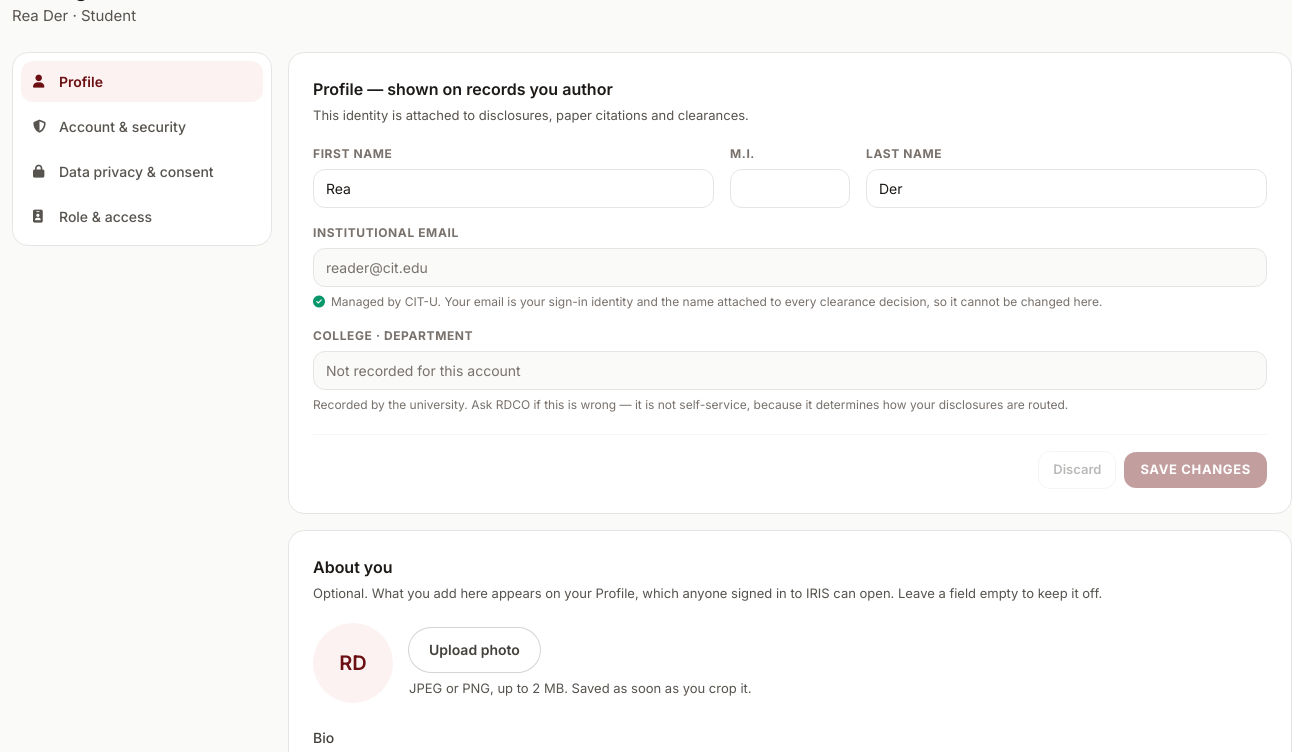
it: changing your password › signs out everywhere, this tab included, and says why on the sign-in screen
Click the button "Account & security": point(142, 126) 21,106 -> 263,147
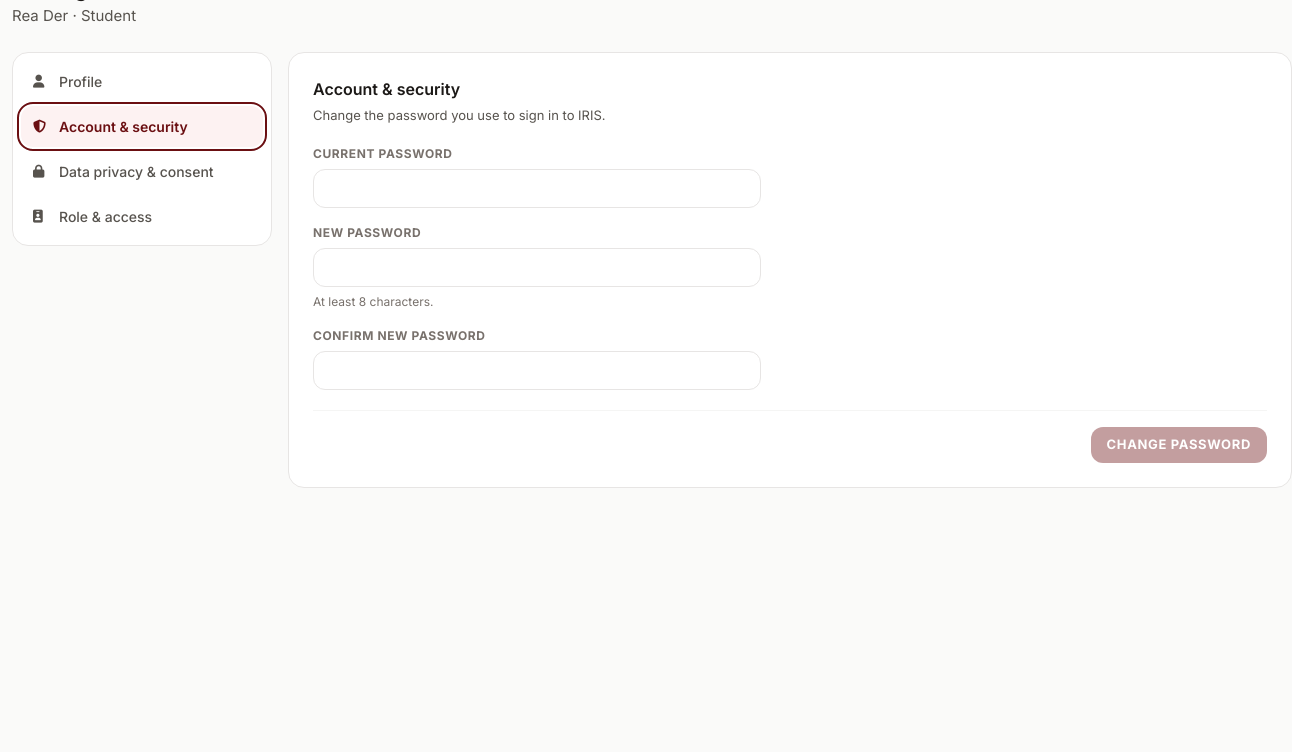
In the password field labelled "Current password": point(537, 188) 313,169 -> 761,208, type "old-Passw0rd"
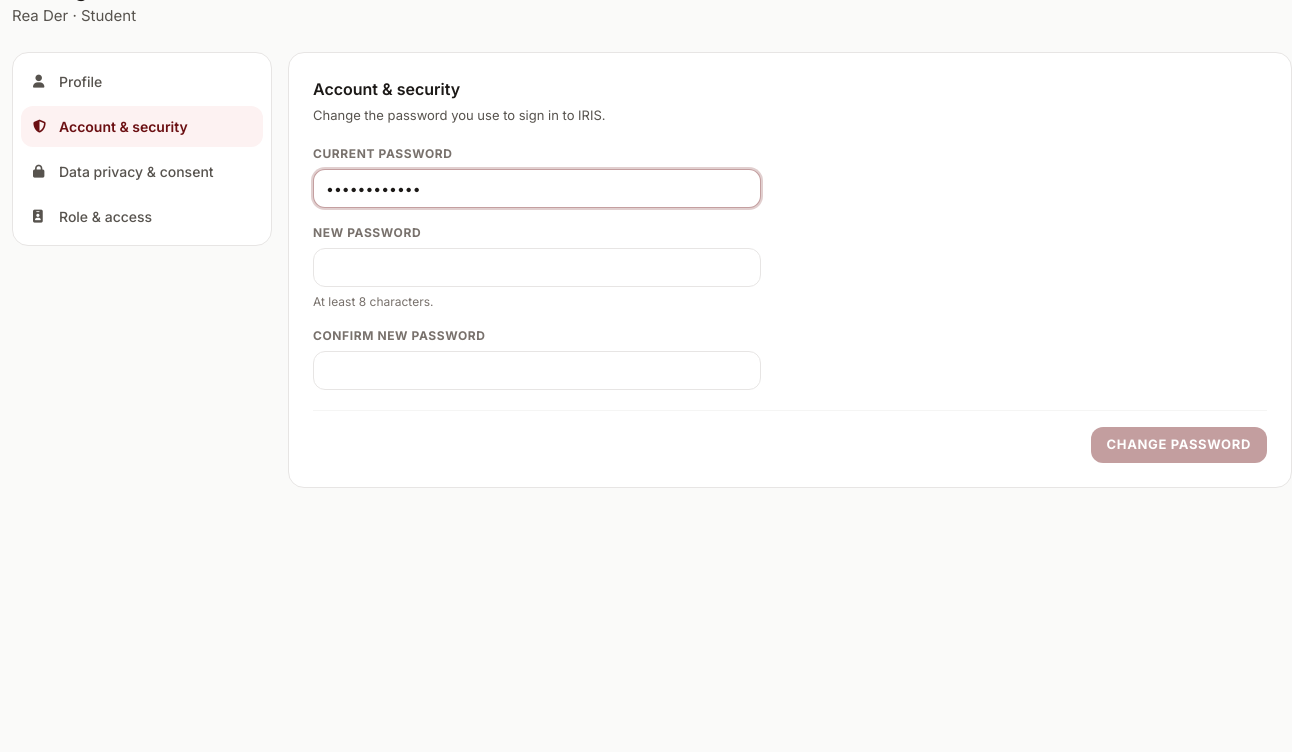
In the password field labelled "New password At least 8 characters.": point(537, 268) 313,248 -> 761,287, type "Kalamansi-Tide-42"
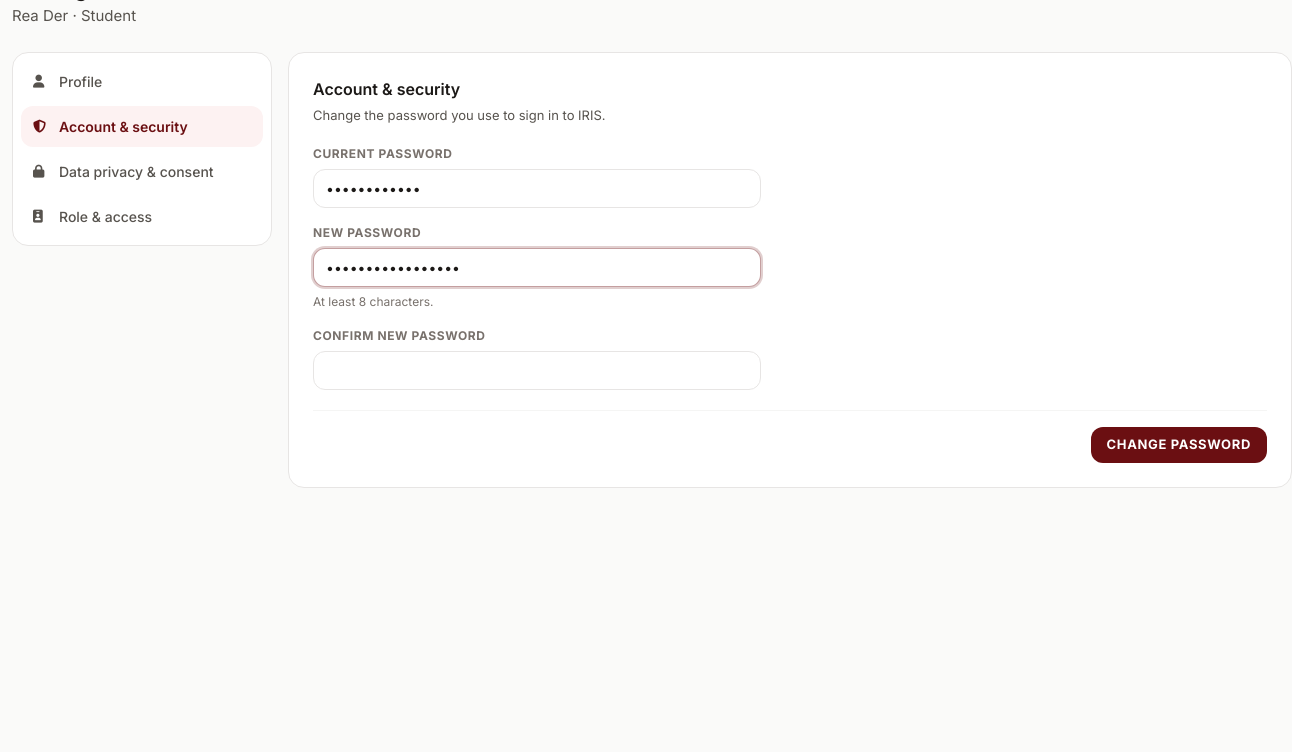
In the password field labelled "Confirm new password": point(537, 370) 313,351 -> 761,390, type "Kalamansi-Tide-42"
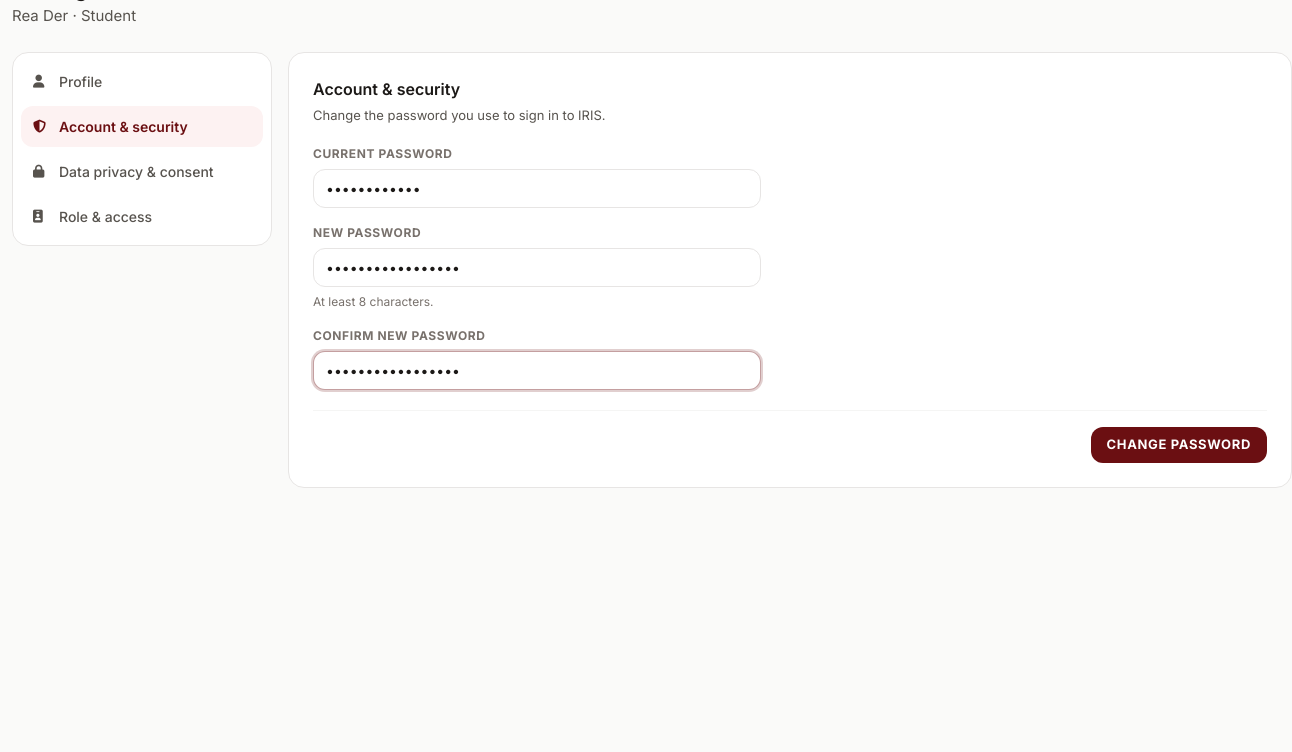
Click the button "Change password": point(1179, 445) 1091,427 -> 1267,462
(page scrolled)
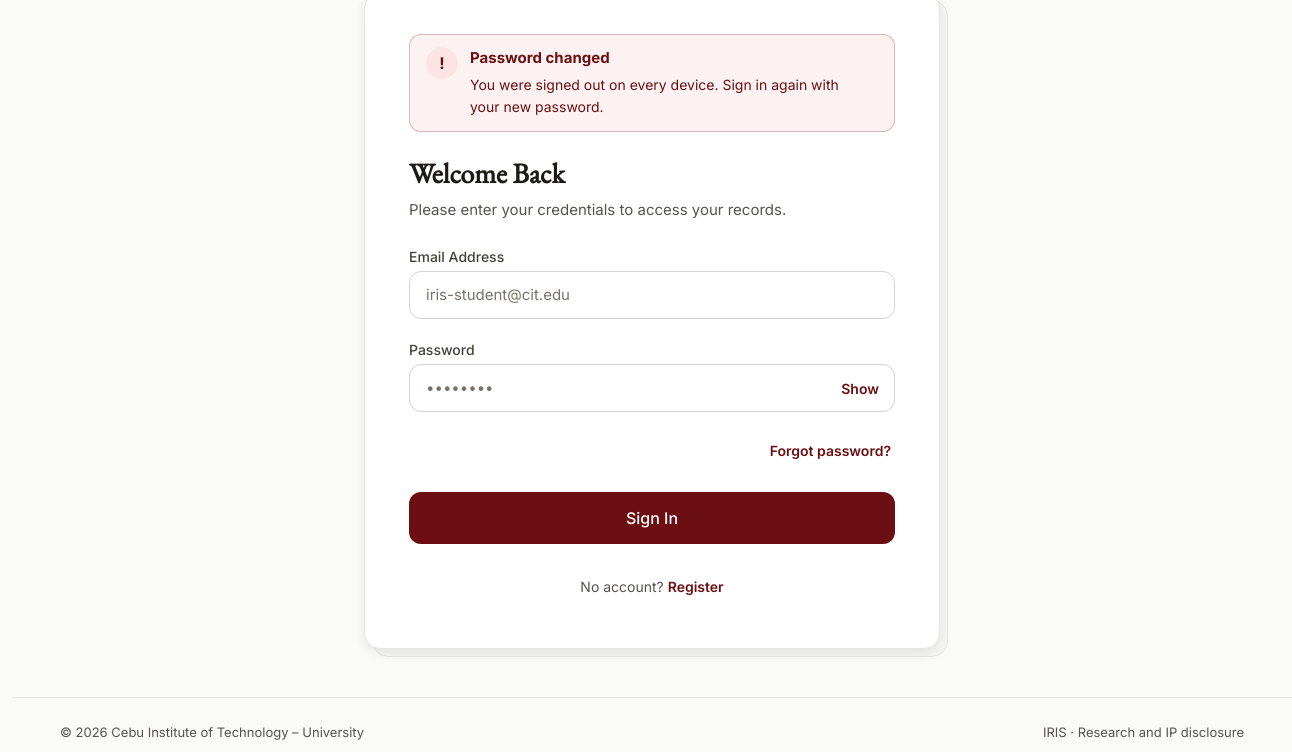
Expected: the message shows "Password changed", 470,48 -> 610,67
Expected: the message shows "Sign in again with your new password.", 470,76 -> 839,115
Expected: the button "Sign In" is shown, 409,492 -> 895,544
